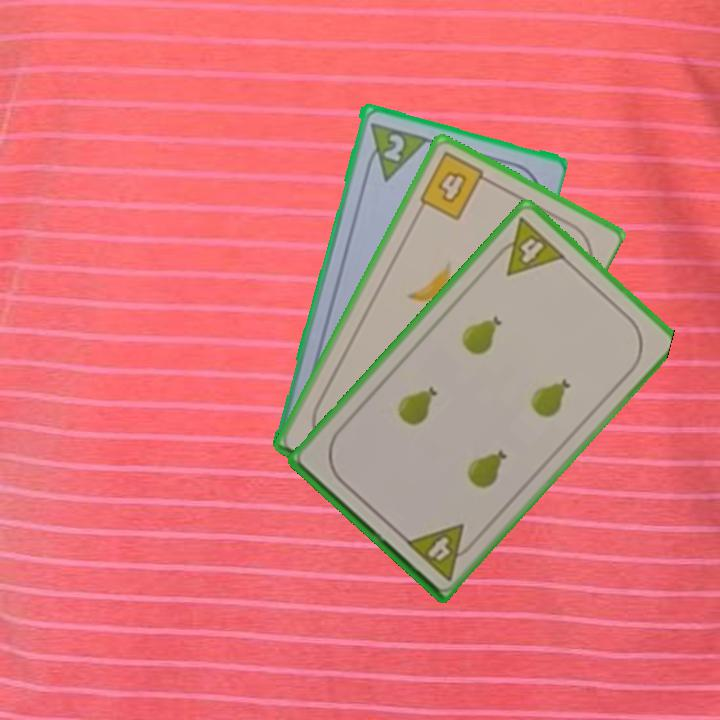2p: (360, 118, 429, 184)
4b: (415, 148, 494, 223)
4p: (488, 213, 569, 279), (402, 520, 480, 583)
